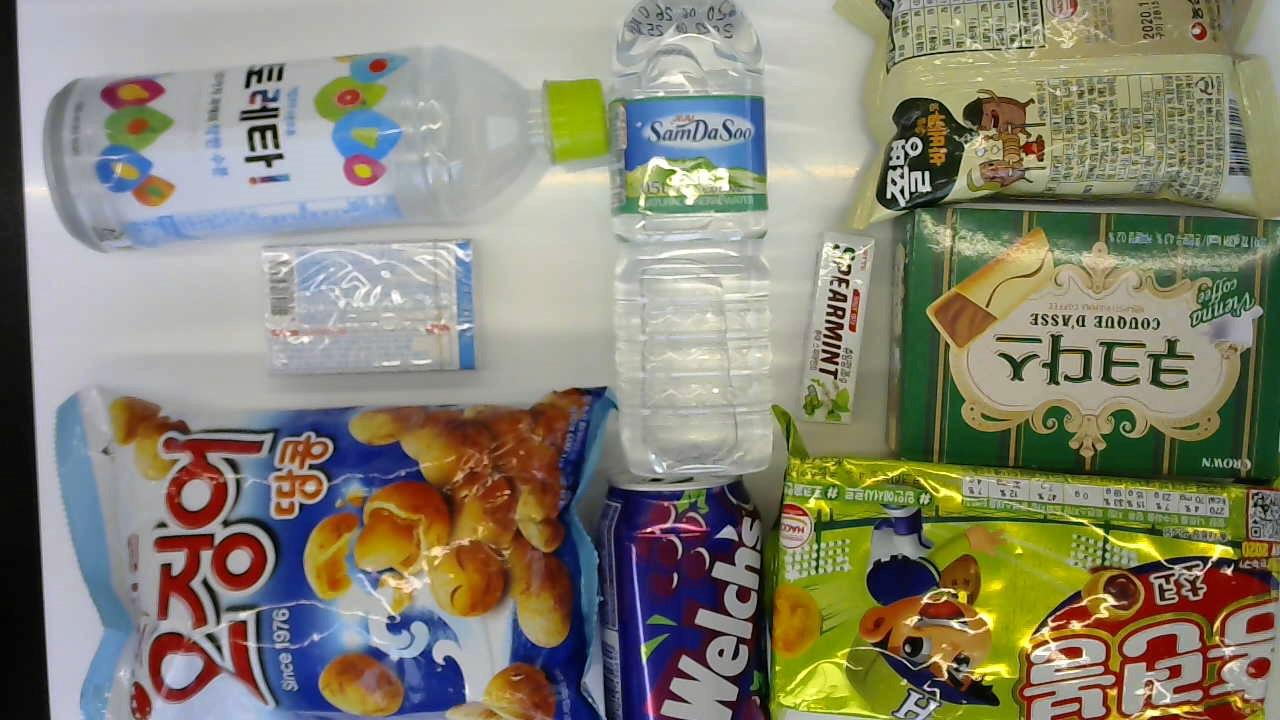ID_gum: (265, 232, 478, 378)
couque_coffee: (882, 205, 1272, 487)
homerunball: (782, 453, 1280, 720)
jjolbyung_ori: (843, 0, 1280, 231)
samdasu: (607, 0, 774, 477)
spearmint: (795, 231, 877, 420)
squid_peanut: (49, 390, 620, 720)
toreta: (43, 40, 608, 254)
welchs: (592, 476, 779, 720)
